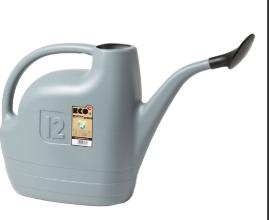ARROSOIR: (0, 0, 256, 220)
